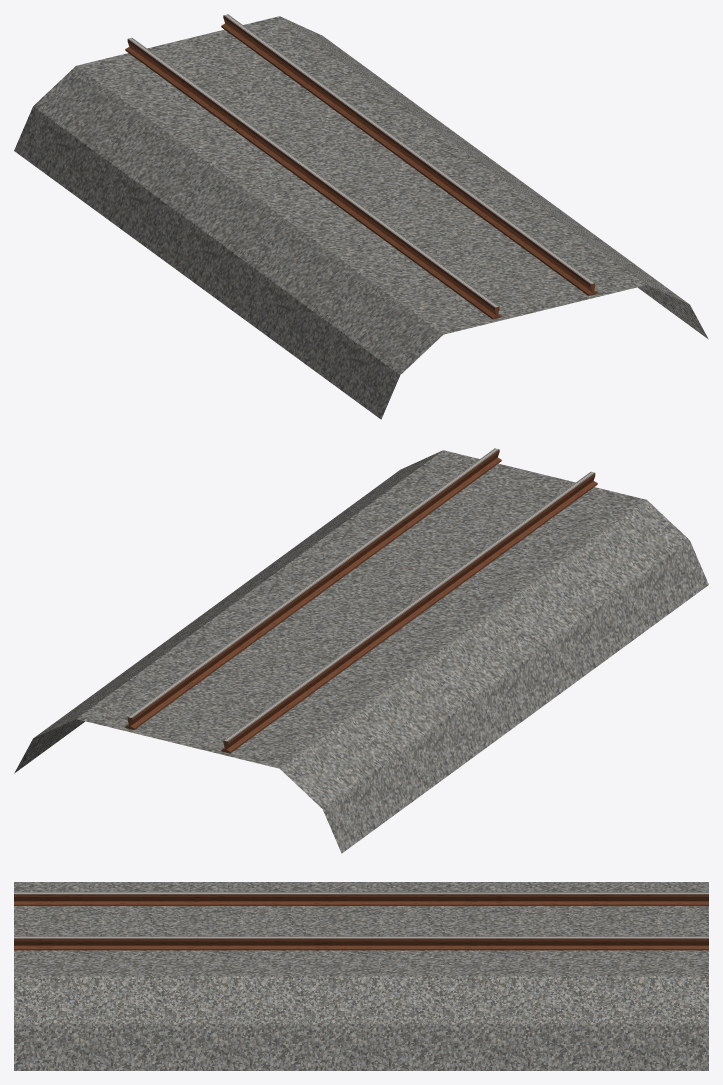
File: rail_track_straight_10m_v2_bed.glb
3 views of the same model, one above another, from view 1: azimuth 30°, elevation 25°; view 2: azimuth 150°, elevation 25°; view 3: azimuth 270°, elevation 25° (orthographic). The views are drawn at different scales.
Visible parts, largest first — view 1: rail_track_straight_10m_v2_bed; view 2: rail_track_straight_10m_v2_bed; view 3: rail_track_straight_10m_v2_bed.
Boxes of the visible parts, x1,y1,x2,y2 form: rail_track_straight_10m_v2_bed: (14,14,708,419); rail_track_straight_10m_v2_bed: (14,448,708,853); rail_track_straight_10m_v2_bed: (14,882,708,1070).
Size of what is drawn, in the model's own units: 5.15 by 1.27 by 10.
2 materials, 2 textured.
